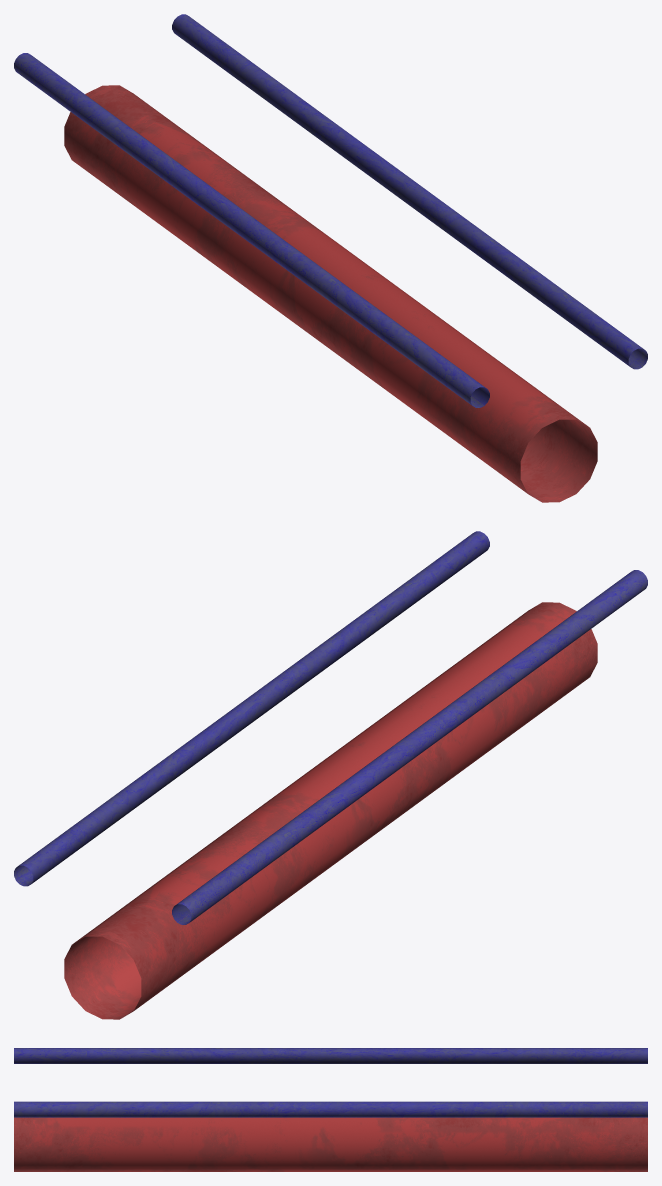
File: Rail_Center.fbx
3 renders of one model, top to bottom at view 1: azimuth 30°, elevation 25°; view 2: azimuth 150°, elevation 25°; view 3: azimuth 270°, elevation 25°, orthographic. The views are drawn at different scales.
Visible parts, largest first — view 1: Rail_Center_LOD0; view 2: Rail_Center_LOD0; view 3: Rail_Center_LOD0.
Boxes of the visible parts, x1,y1,x2,y2 form: Rail_Center_LOD0: (14,14,647,502); Rail_Center_LOD0: (14,531,647,1019); Rail_Center_LOD0: (14,1048,647,1171).
Size of what is drawn, in the model's own units: 44.87 by 32.49 by 200.
